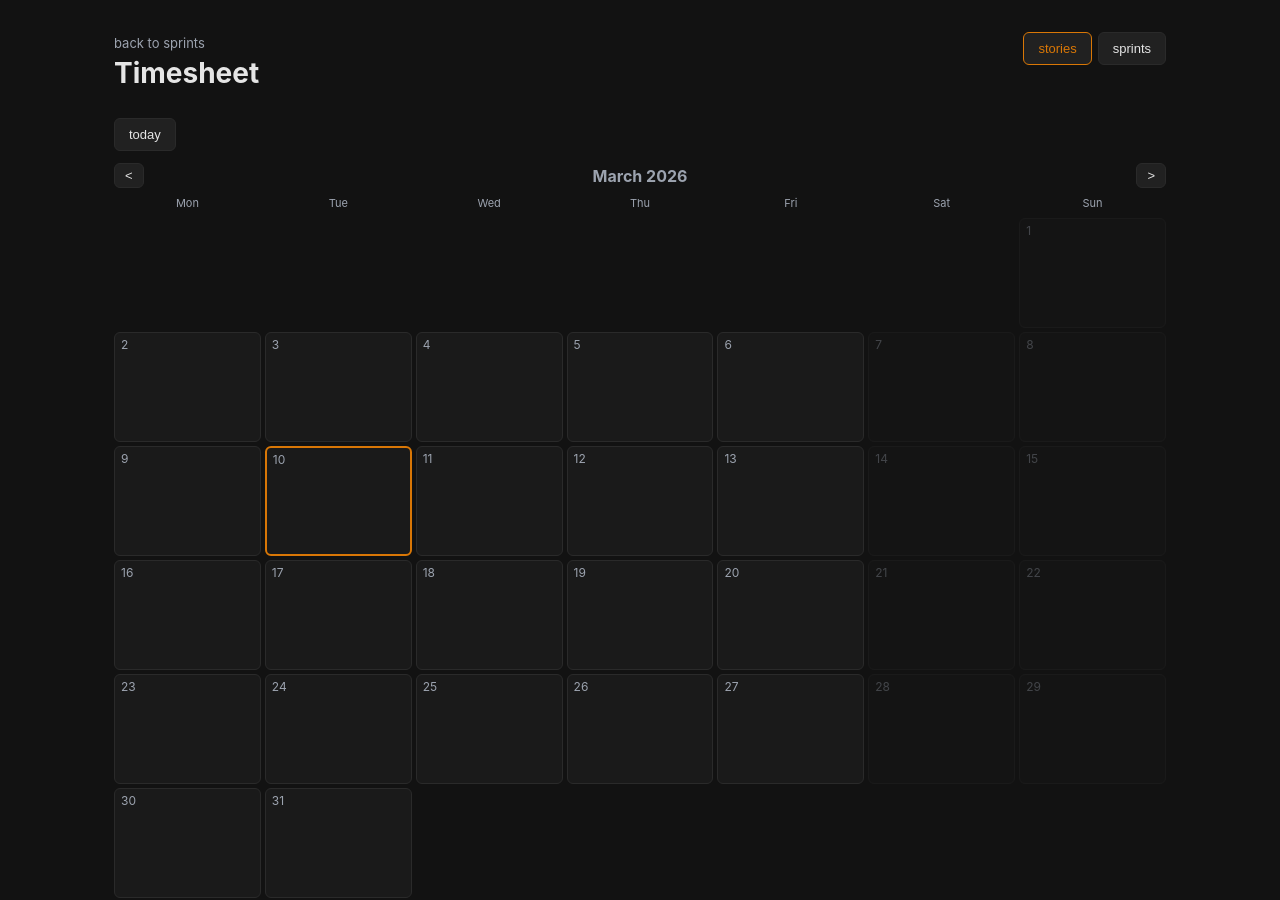
Test: timesheet page › stories mode › jumps back to the current month via the 'today' button
Expected: the heading "March 2026" is shown, [593,166,687,186]
Click the button named "next month": point(1151, 176) [1136,163,1166,188]
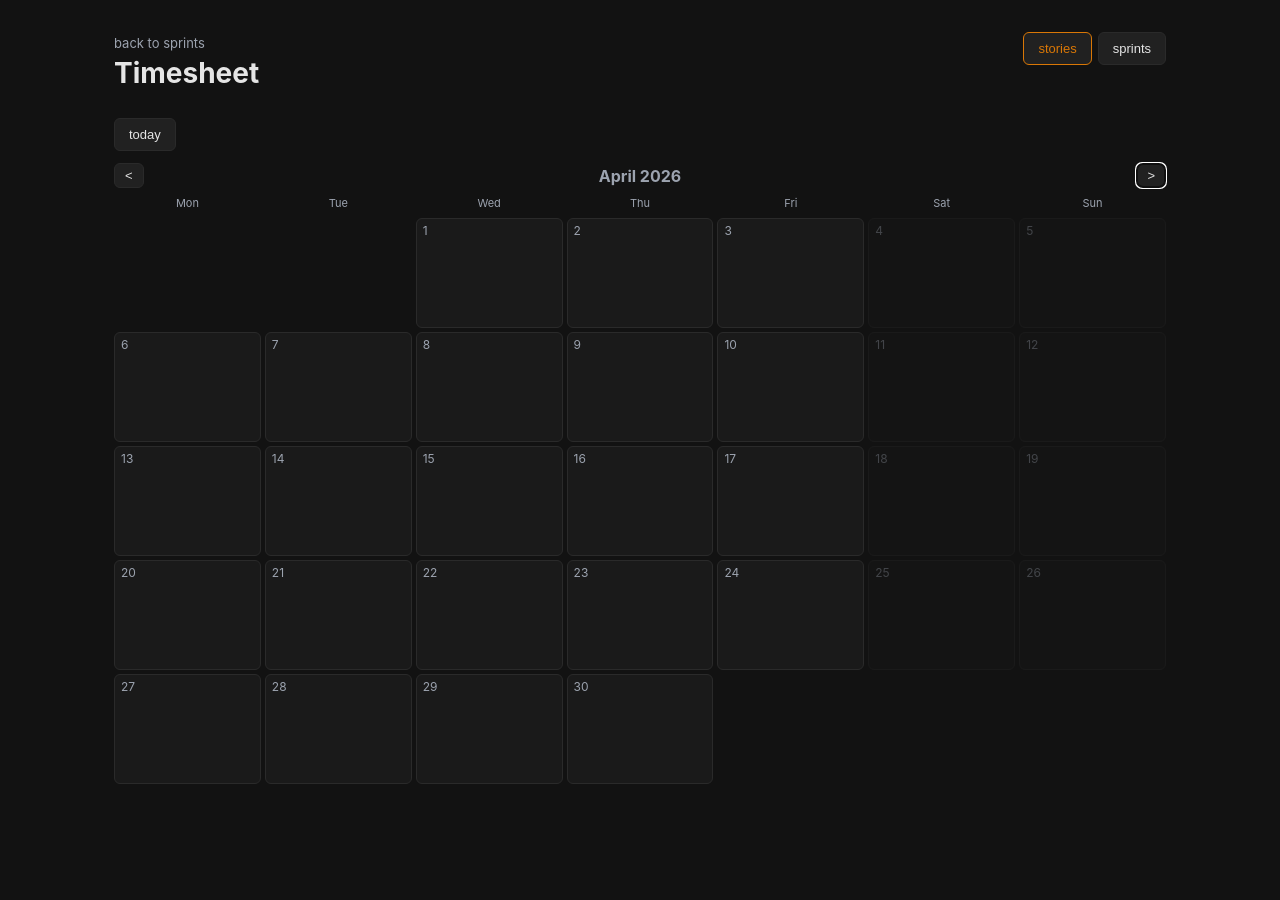
Expected: the heading "April 2026" is shown, [599,166,681,186]
Click the button "today": point(145, 134) [114,118,176,151]
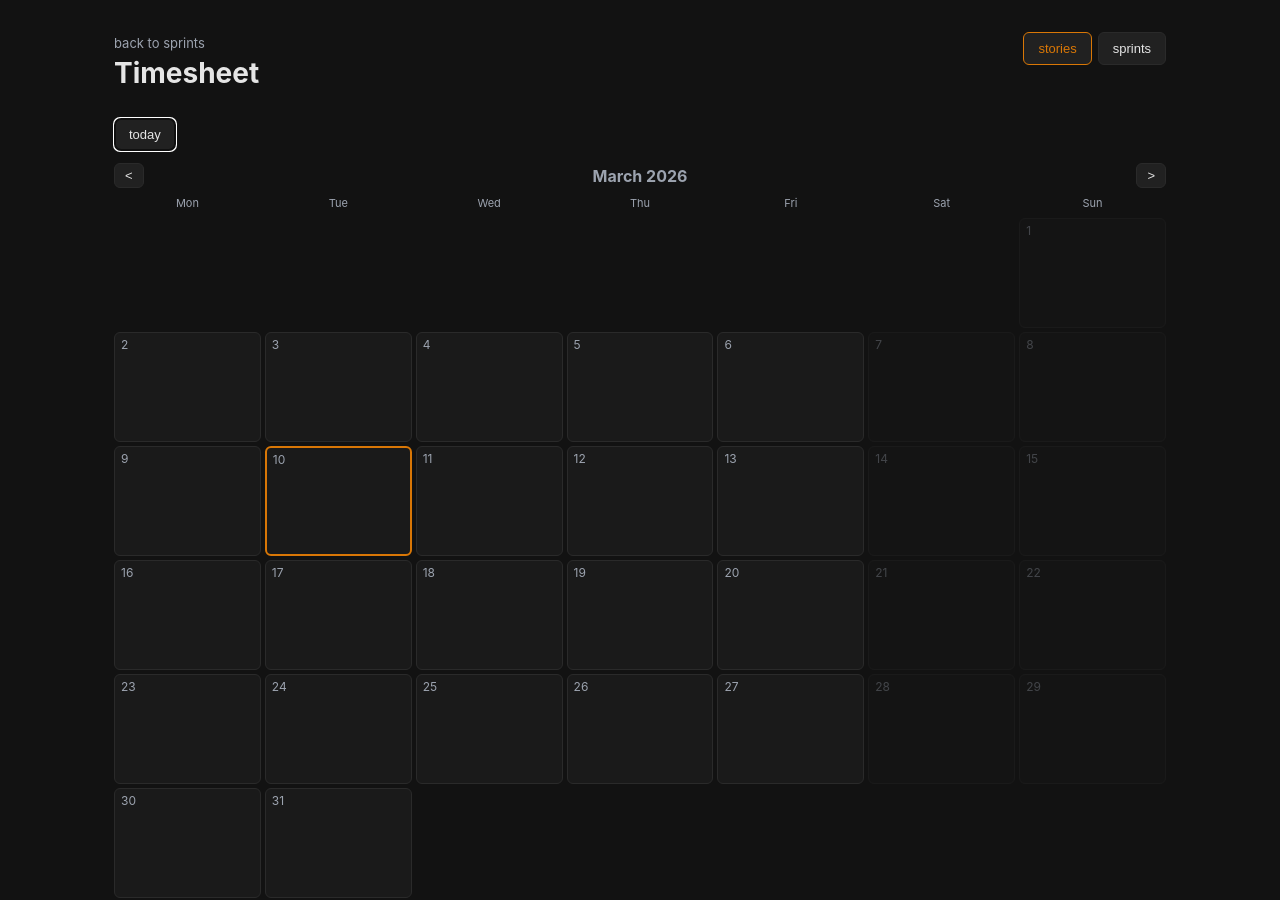
Expected: the heading "March 2026" is shown, [593,166,687,186]
